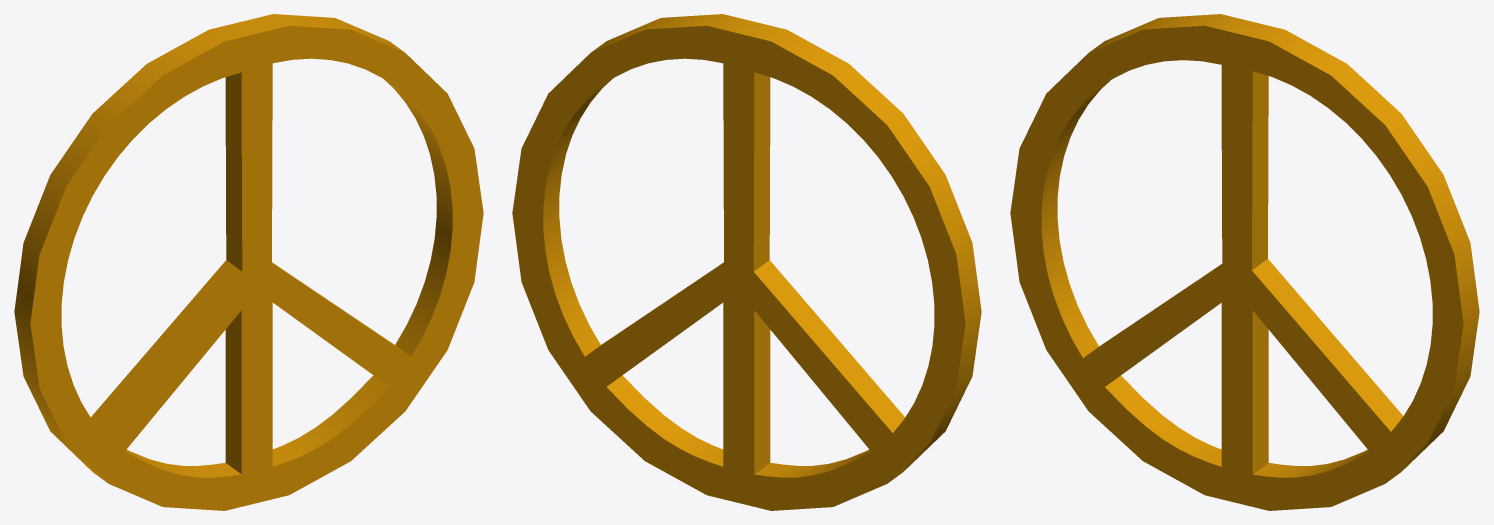
File: Symbol.FBX
The picture shows the model from 3 angles, left to right: view 1: azimuth 30°, elevation 25°; view 2: azimuth 150°, elevation 25°; view 3: azimuth 330°, elevation 25°; orthographic projection.
Visible parts, largest first — view 1: symbol; view 2: symbol; view 3: symbol.
Part boxes in pixels (x1,y1,x2,y2): symbol: [14, 14, 483, 510]; symbol: [512, 14, 981, 510]; symbol: [1010, 14, 1479, 510].
Bounding box in the file's own units: 53.55 × 53.01 × 3.28.
1 material, 1 textured.
